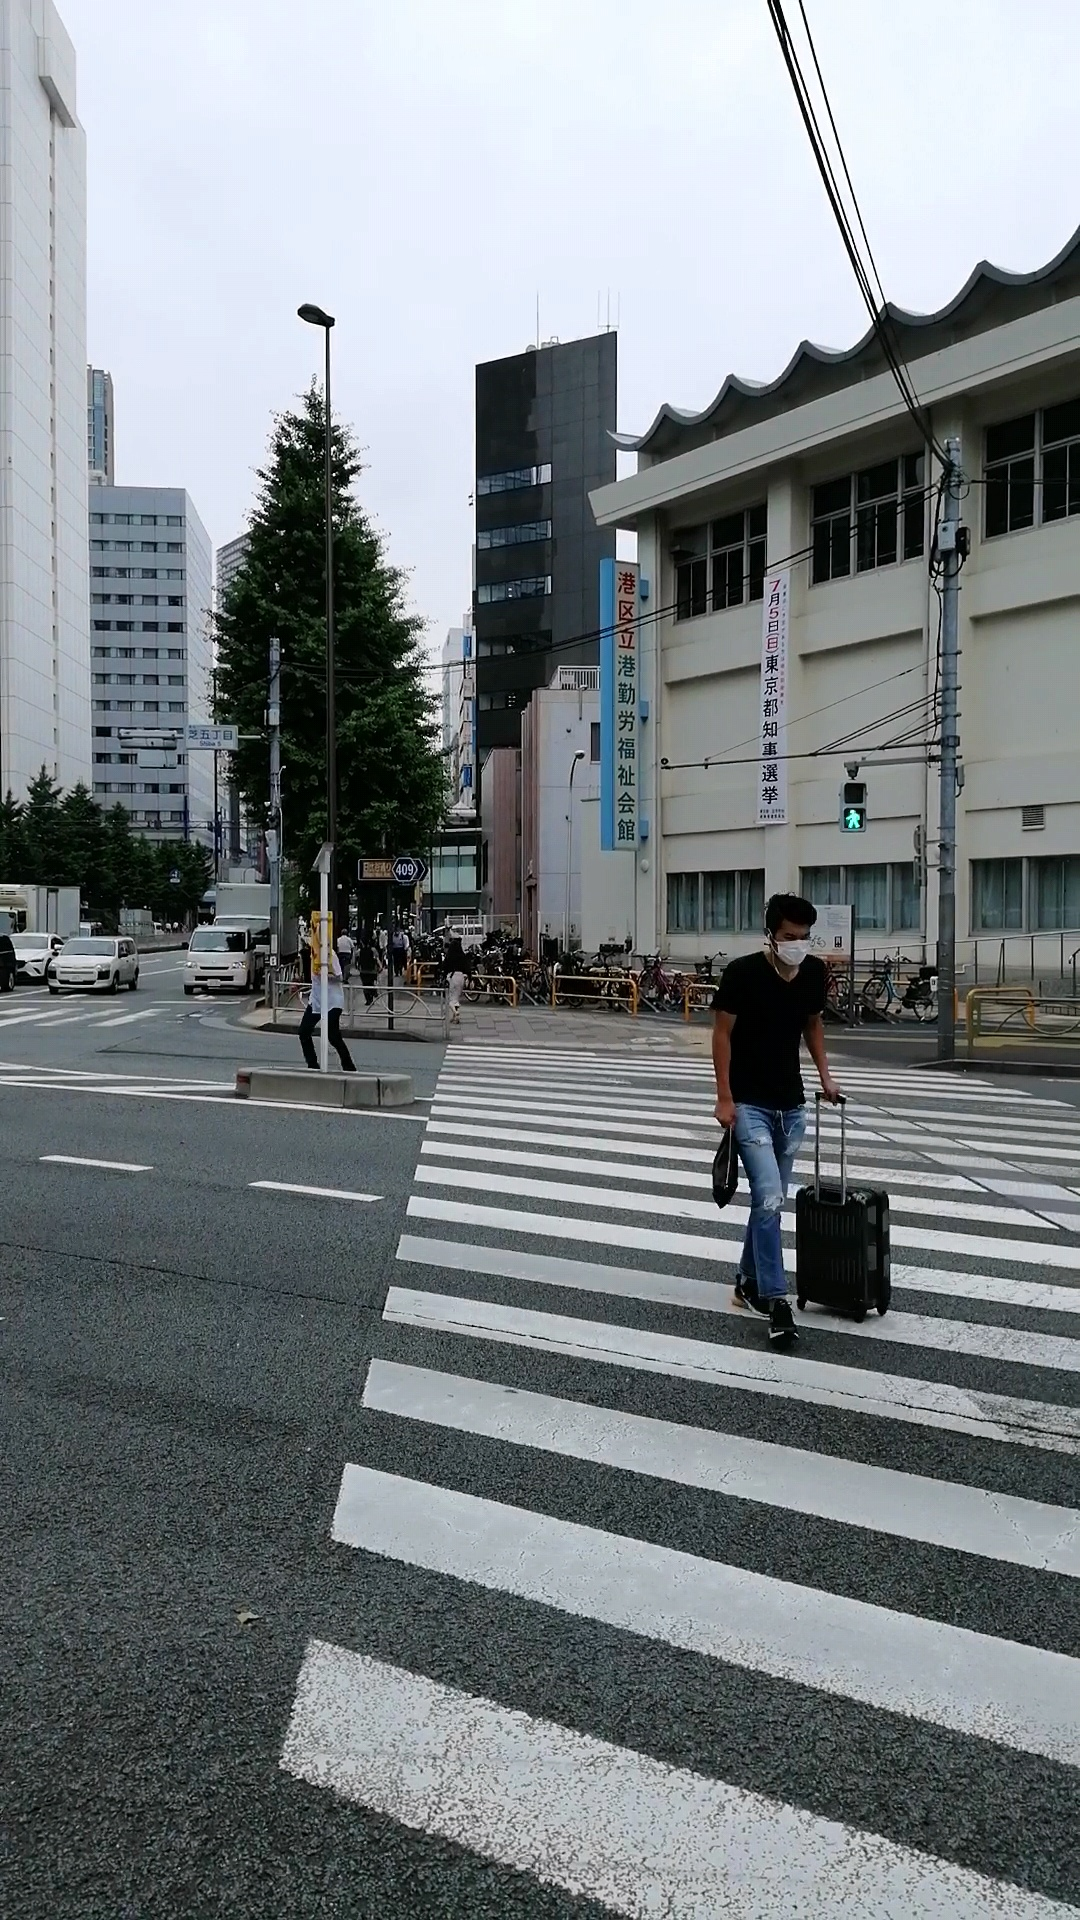green: (837, 781, 868, 837)
